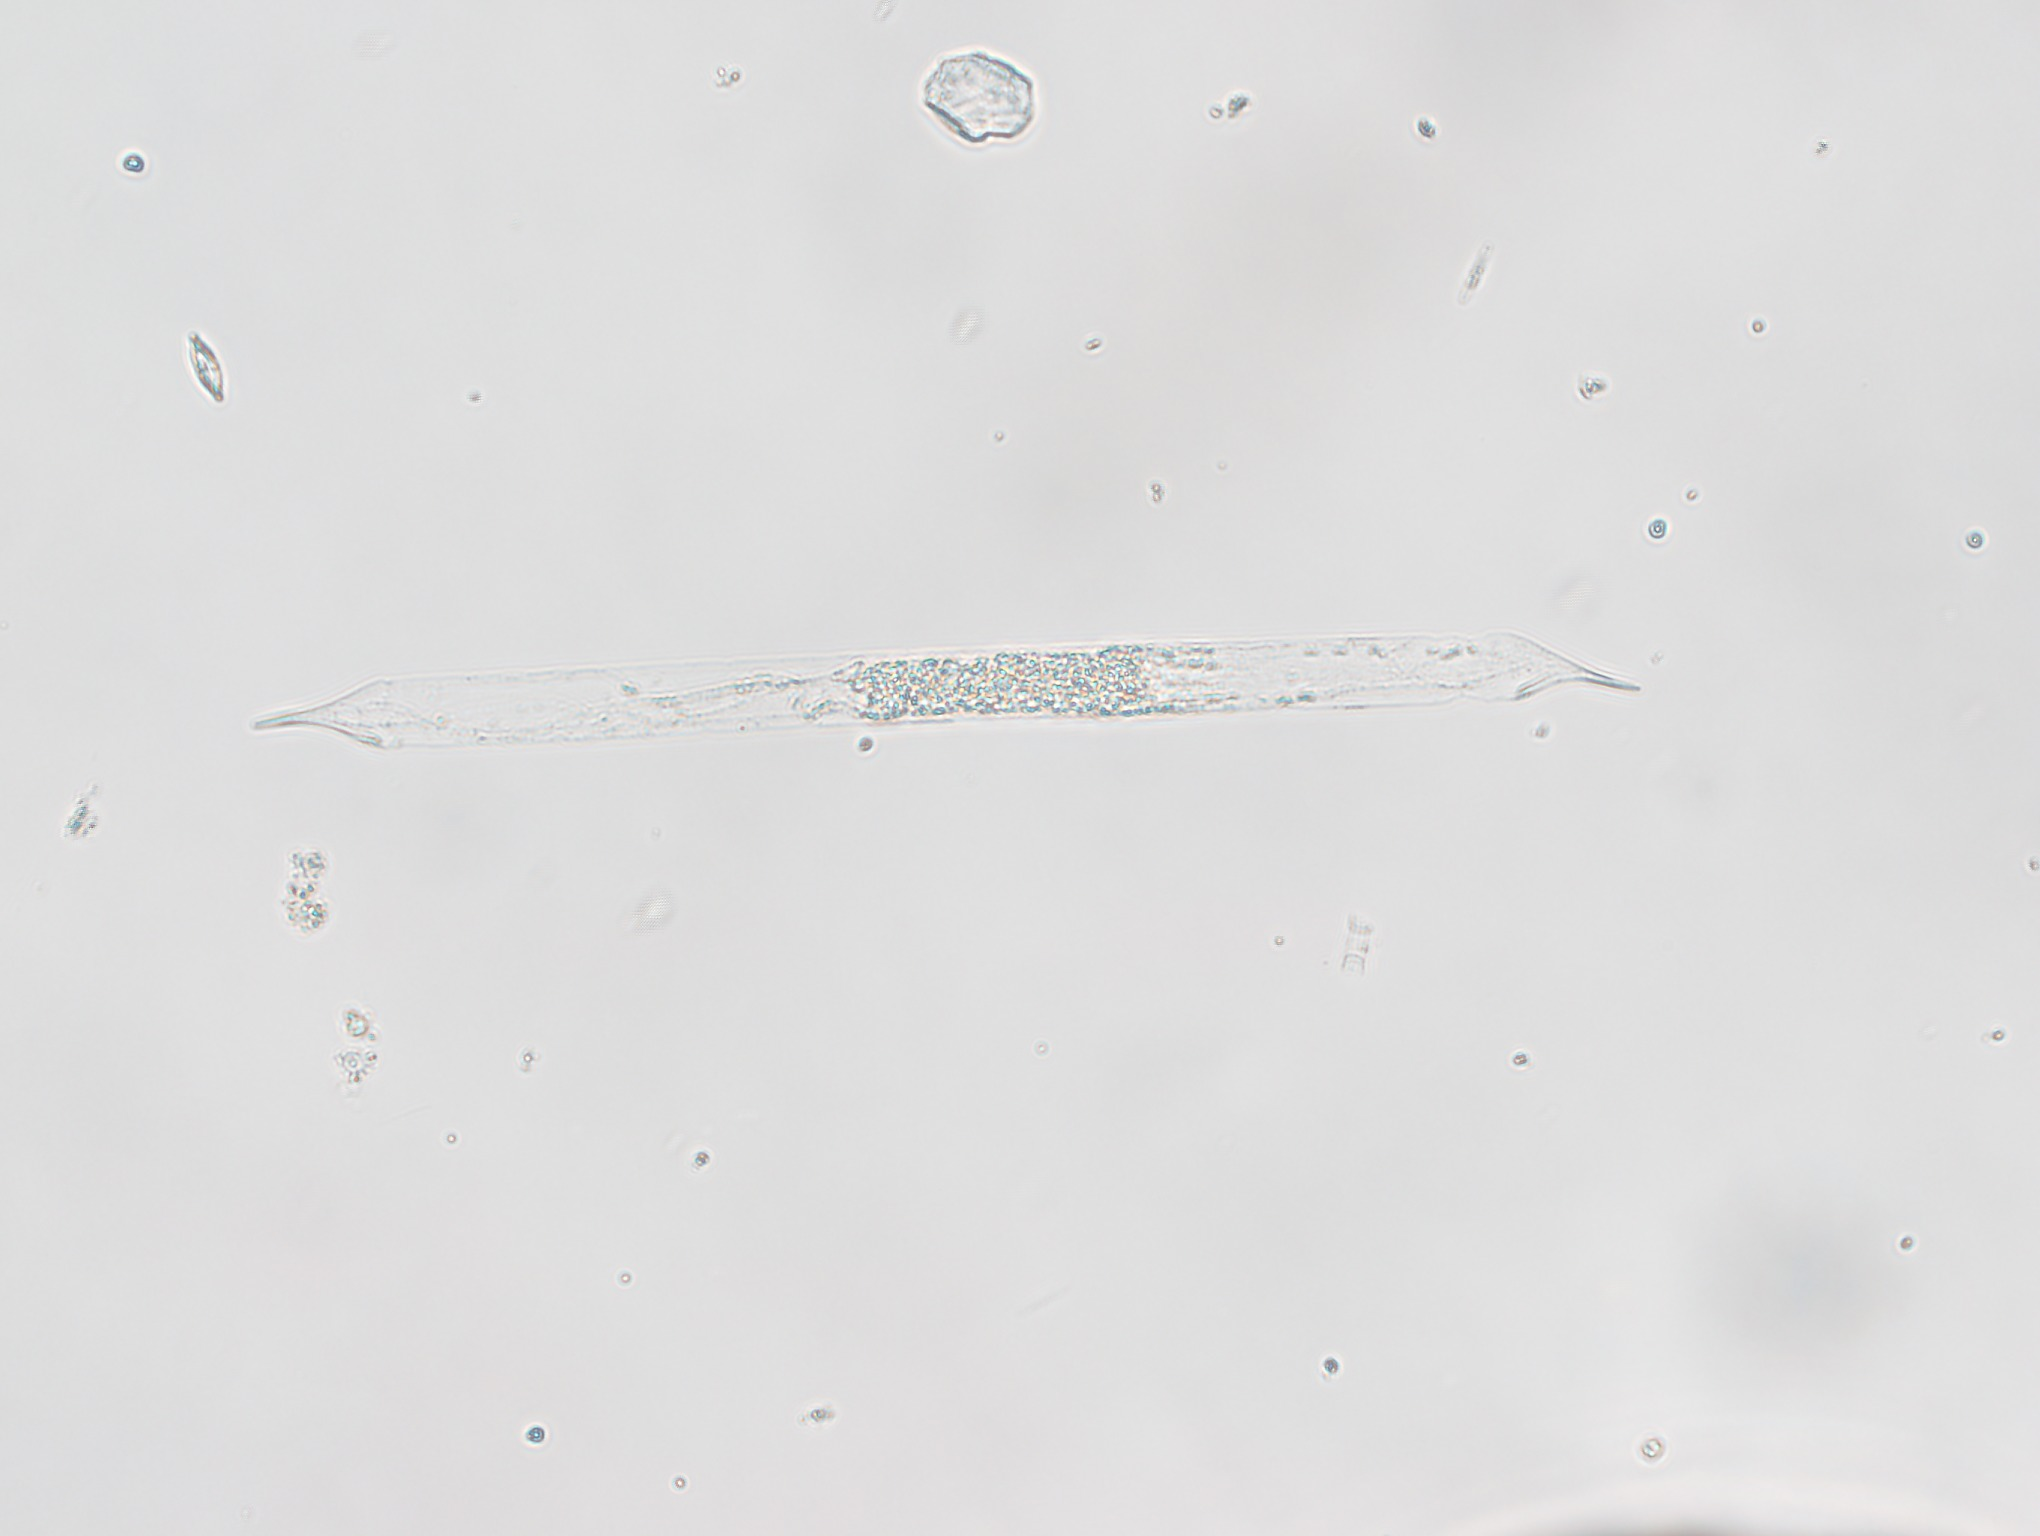rhizosolenia: (223, 603, 1664, 766)
